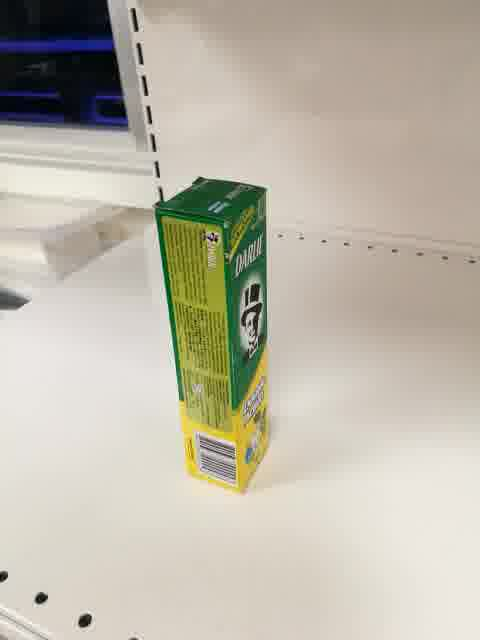toothpaste: (153, 177, 273, 495)
